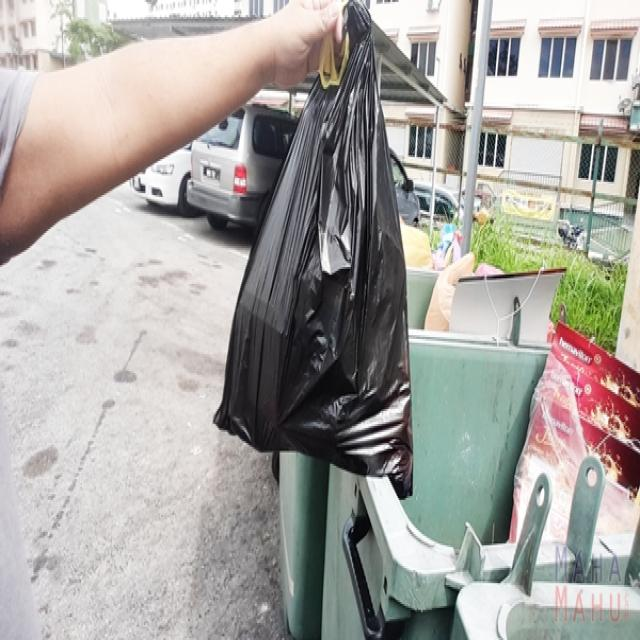sampah-detection: (216, 2, 420, 506)
